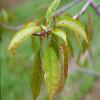Cherry leaf: (4, 16, 41, 62), (54, 13, 91, 49), (42, 44, 60, 99), (56, 40, 70, 99), (29, 48, 43, 99)
